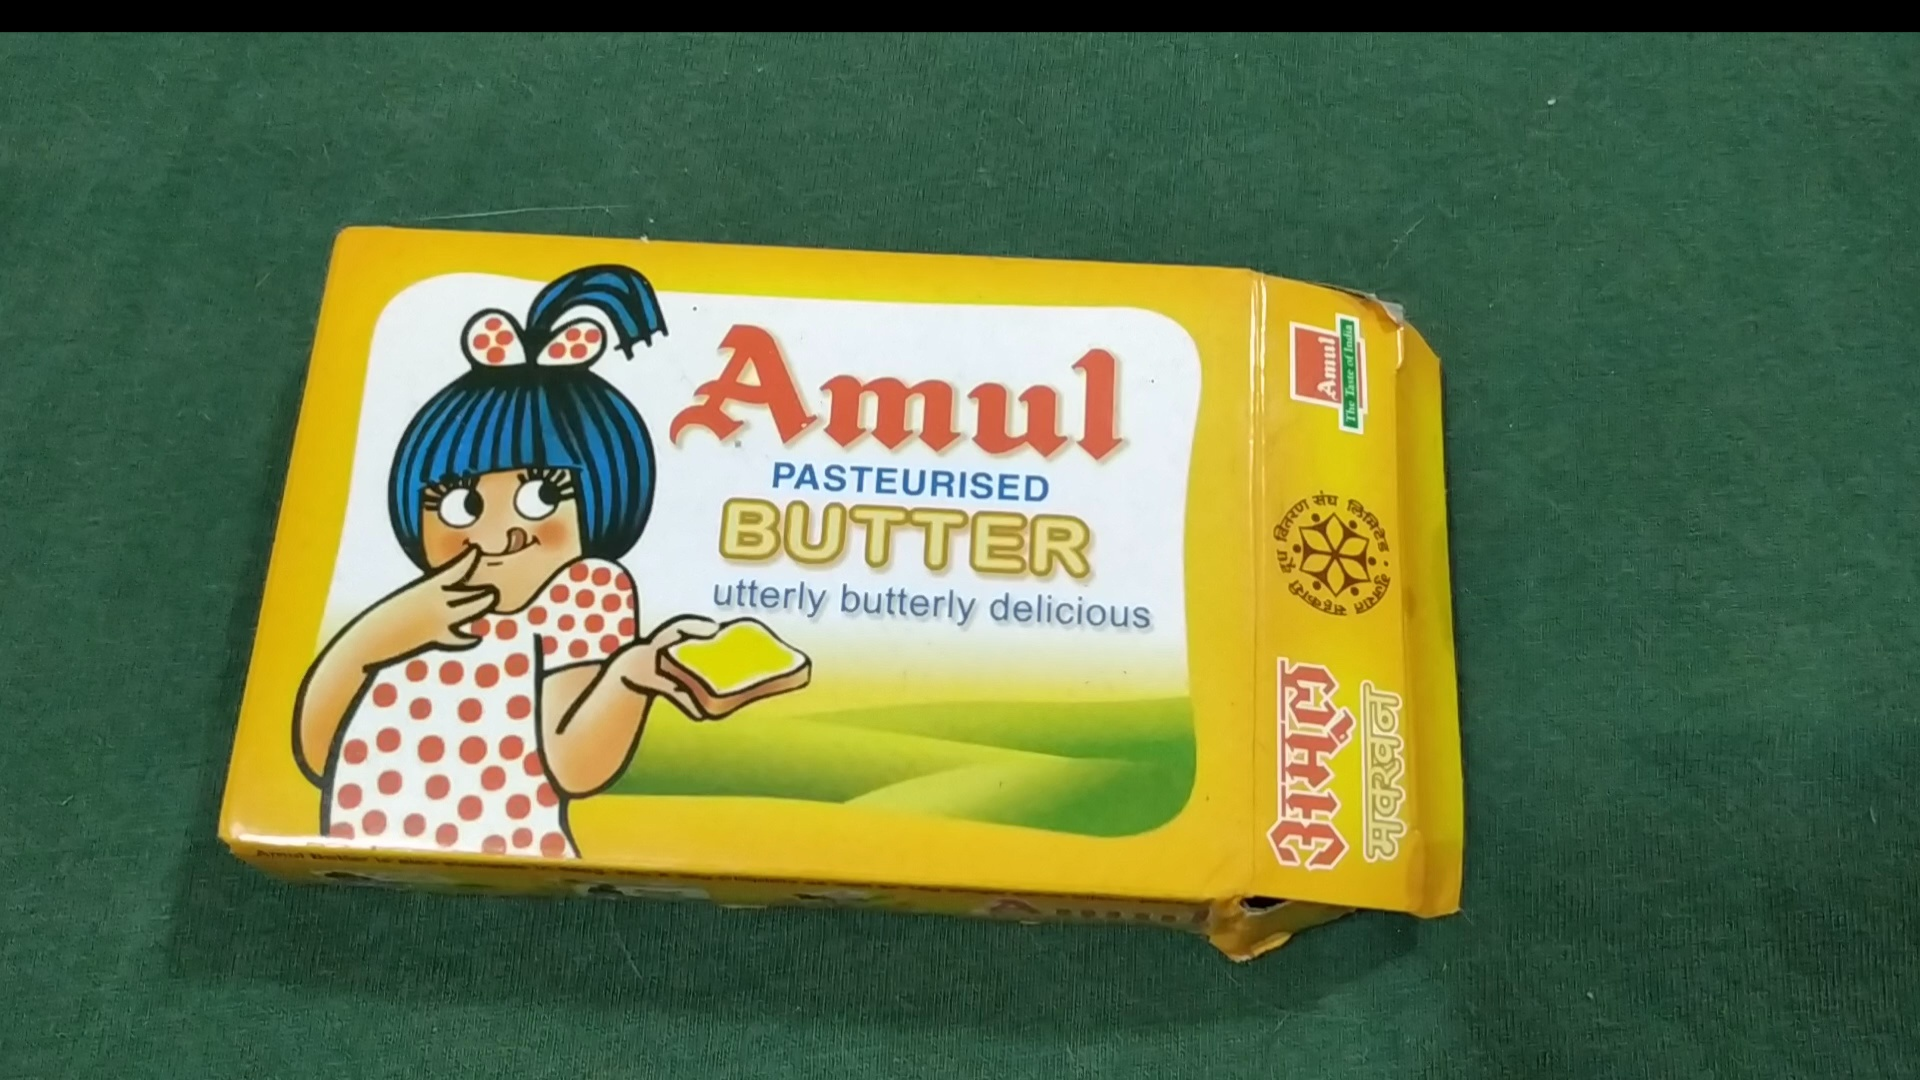amul_butter: (210, 225, 1457, 949)
